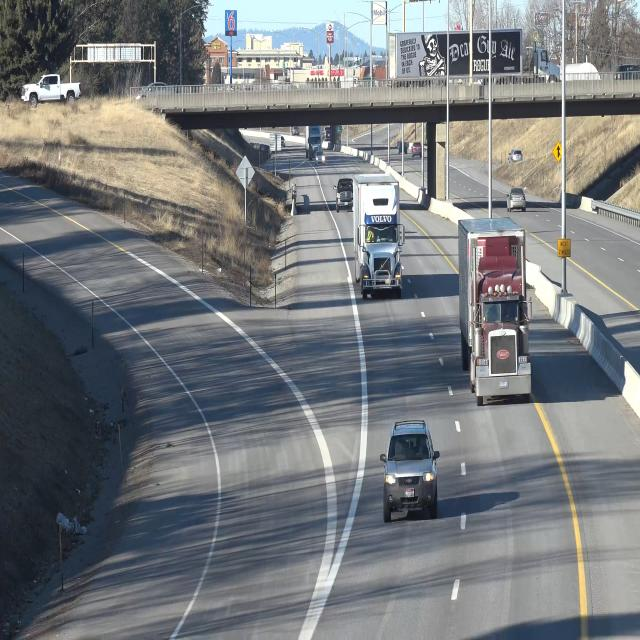Car: (457, 215, 533, 400), (349, 171, 407, 297), (382, 424, 440, 516), (334, 173, 358, 211), (508, 183, 528, 214)
